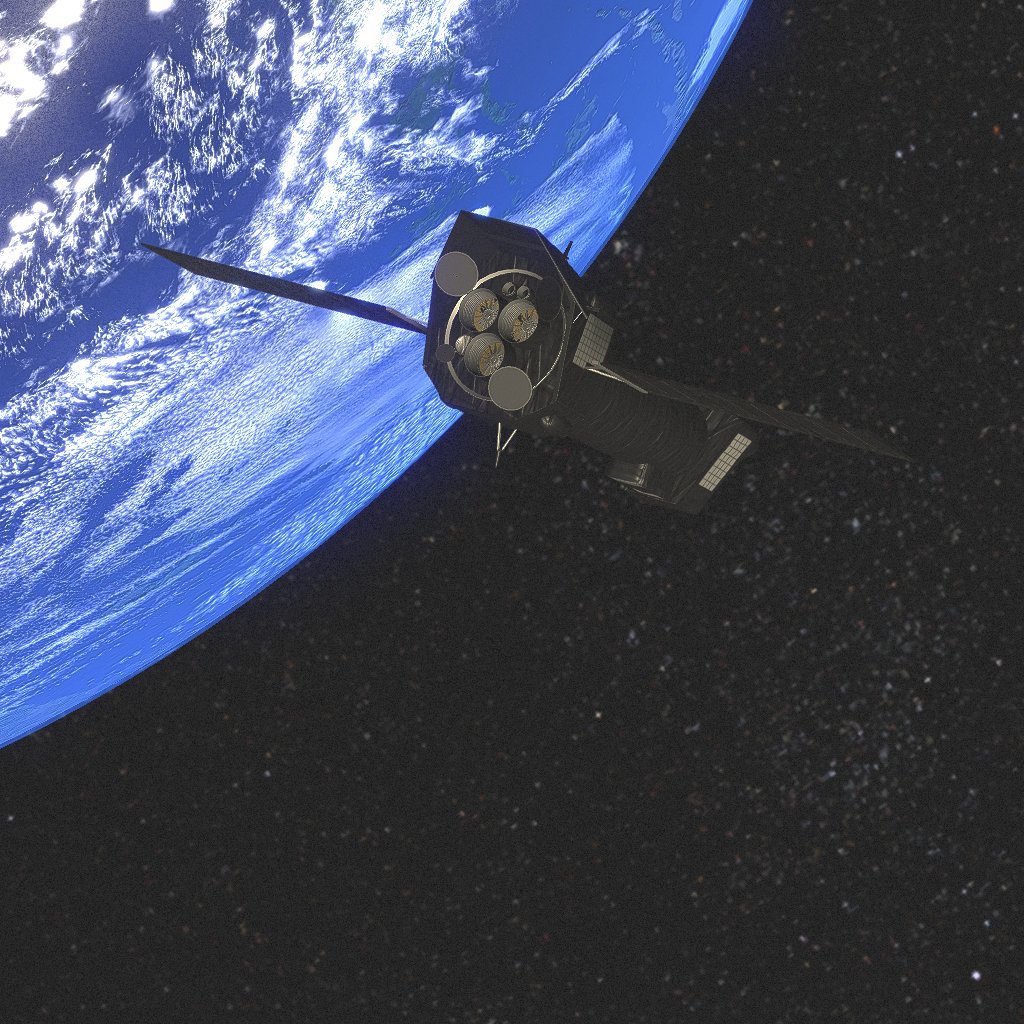xmm_newton: (102, 170, 936, 505)
